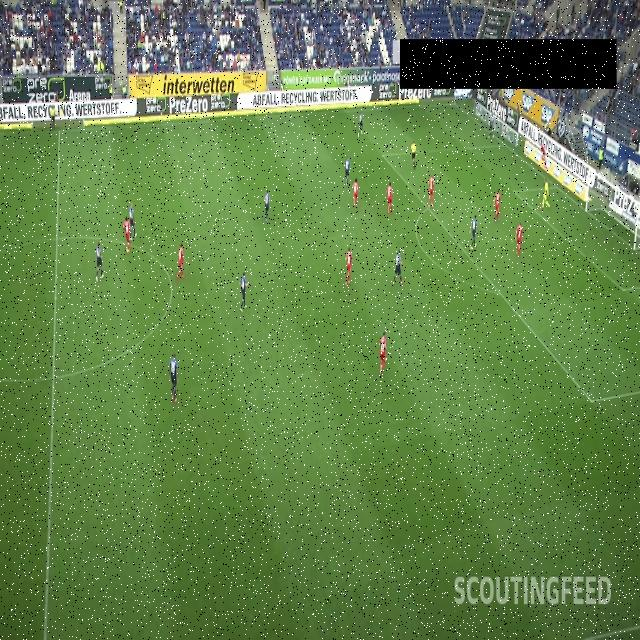GoalKeeper: (541, 179, 551, 211)
Referee: (411, 139, 417, 170), (50, 106, 56, 131)
TEAM 1: (378, 330, 387, 374), (177, 242, 186, 279), (515, 220, 524, 256), (122, 215, 130, 253), (386, 182, 394, 214), (494, 188, 501, 224), (428, 174, 435, 208), (346, 246, 352, 285), (352, 177, 359, 206), (540, 143, 546, 166)
TEAM 2: (168, 352, 180, 403), (95, 242, 105, 282), (393, 250, 404, 286), (240, 270, 248, 312), (469, 214, 478, 250), (130, 202, 138, 242), (263, 189, 270, 221), (488, 115, 496, 140), (357, 111, 364, 137), (344, 156, 350, 186)
